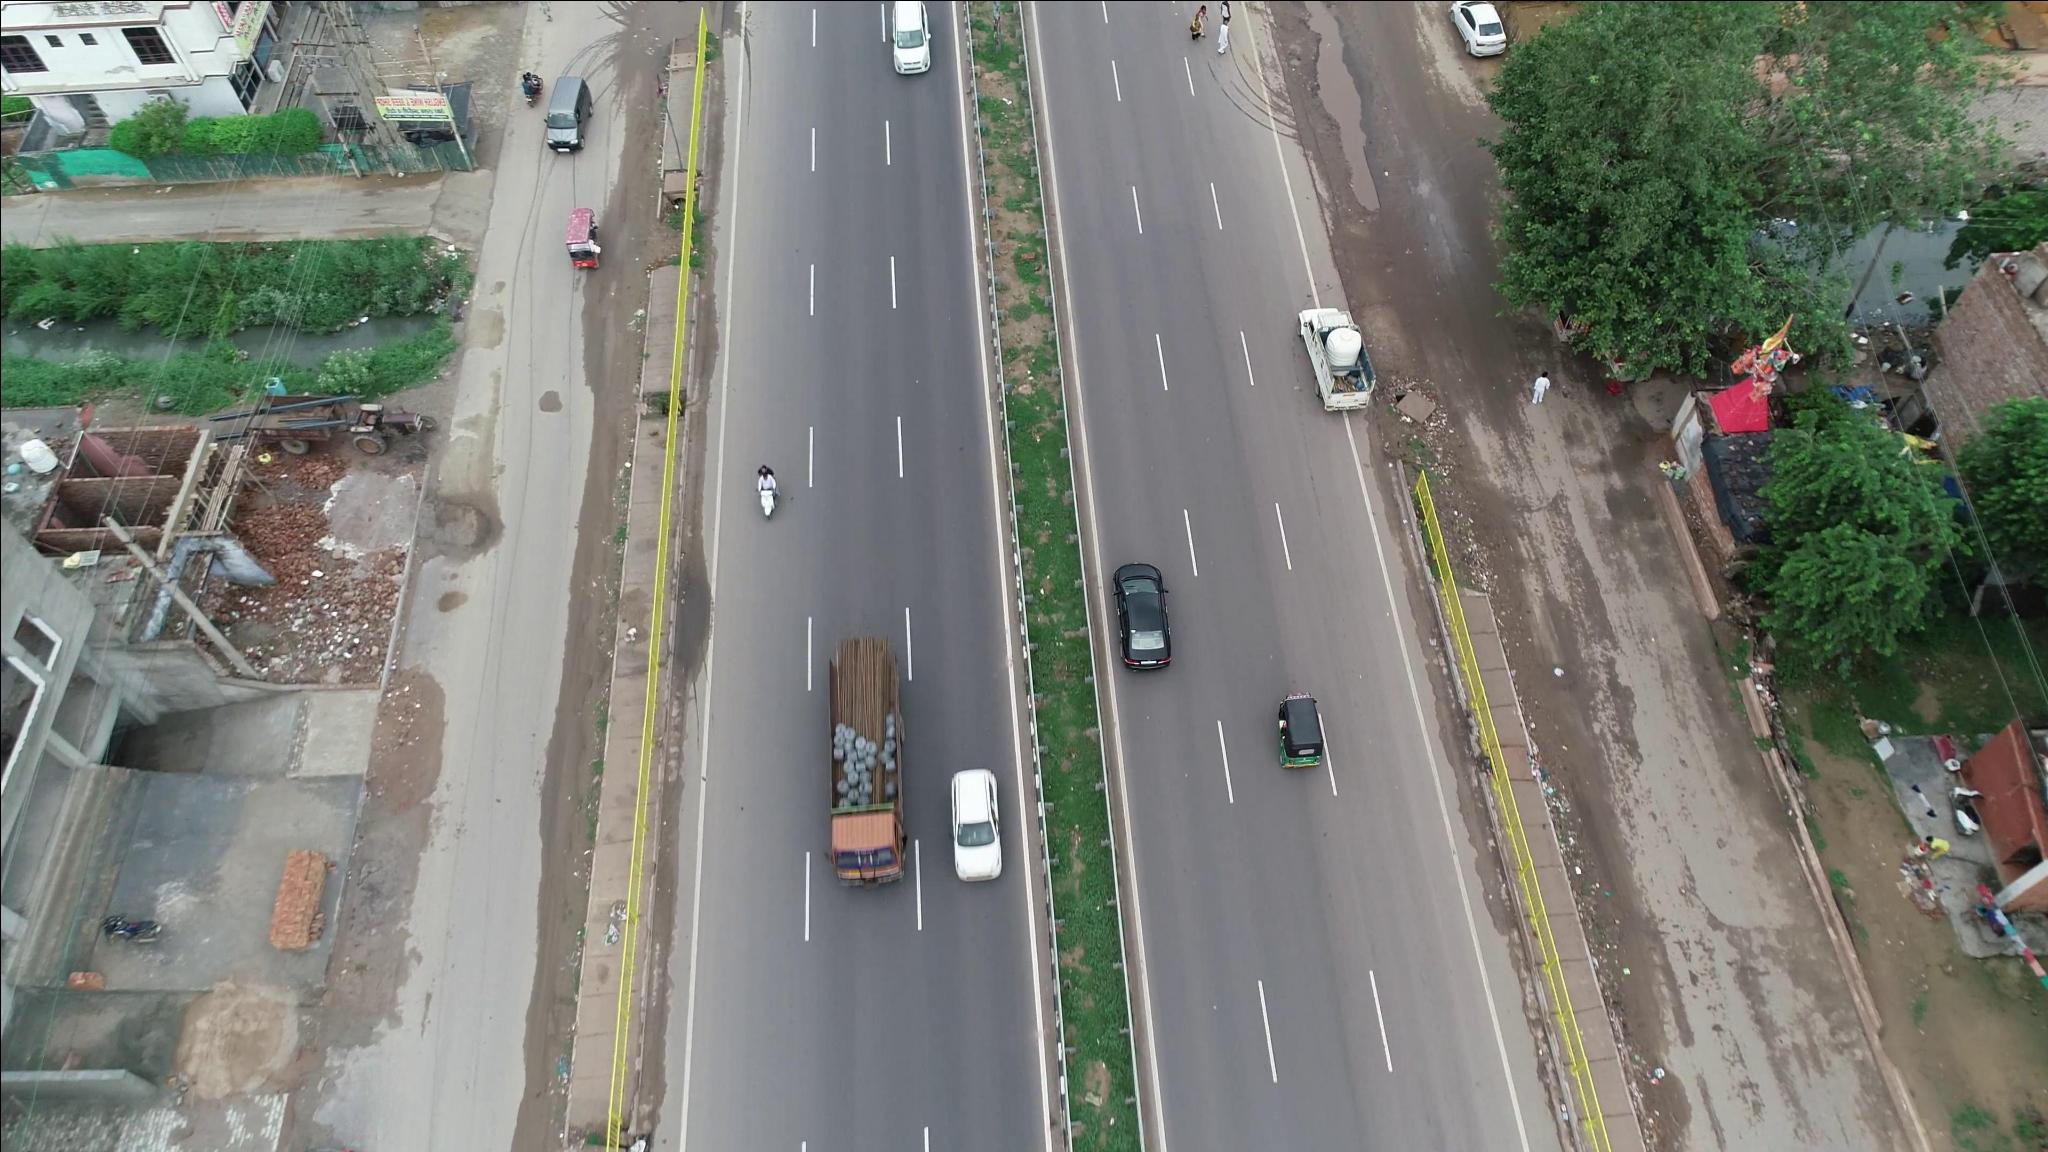Muddy_road: (364, 684, 454, 999), (526, 574, 617, 824), (563, 331, 632, 560)
